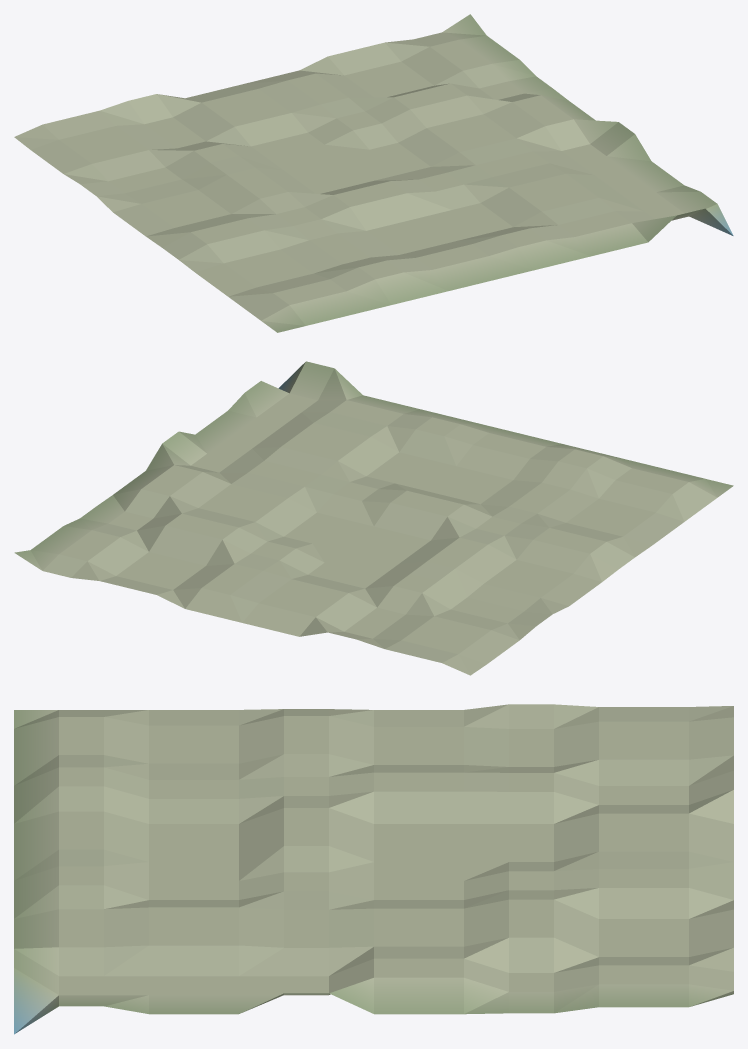
3 views of the same model, one above another, from view 1: azimuth 30°, elevation 25°; view 2: azimuth 150°, elevation 25°; view 3: azimuth 270°, elevation 25° (orthographic). The views are drawn at different scales.
Size of the model in its own units: 32 by 2.34 by 32.
